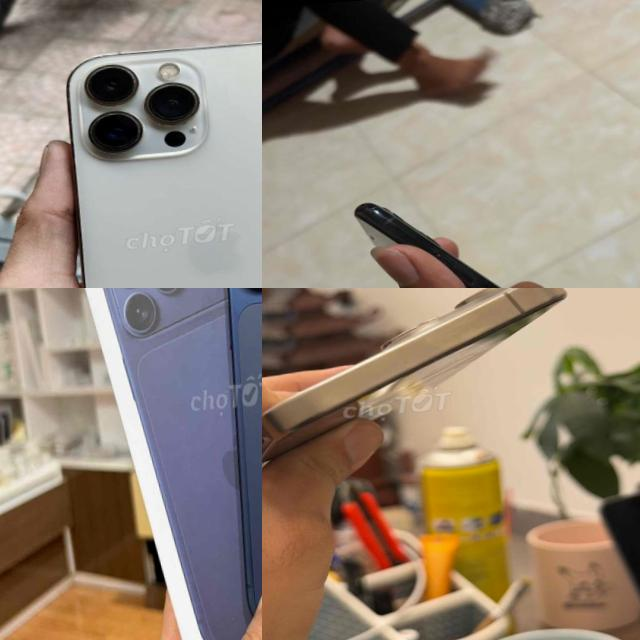gen_11: (354, 202, 503, 288)
gen_12_13: (59, 30, 262, 288)
gen_15: (262, 288, 574, 488)
